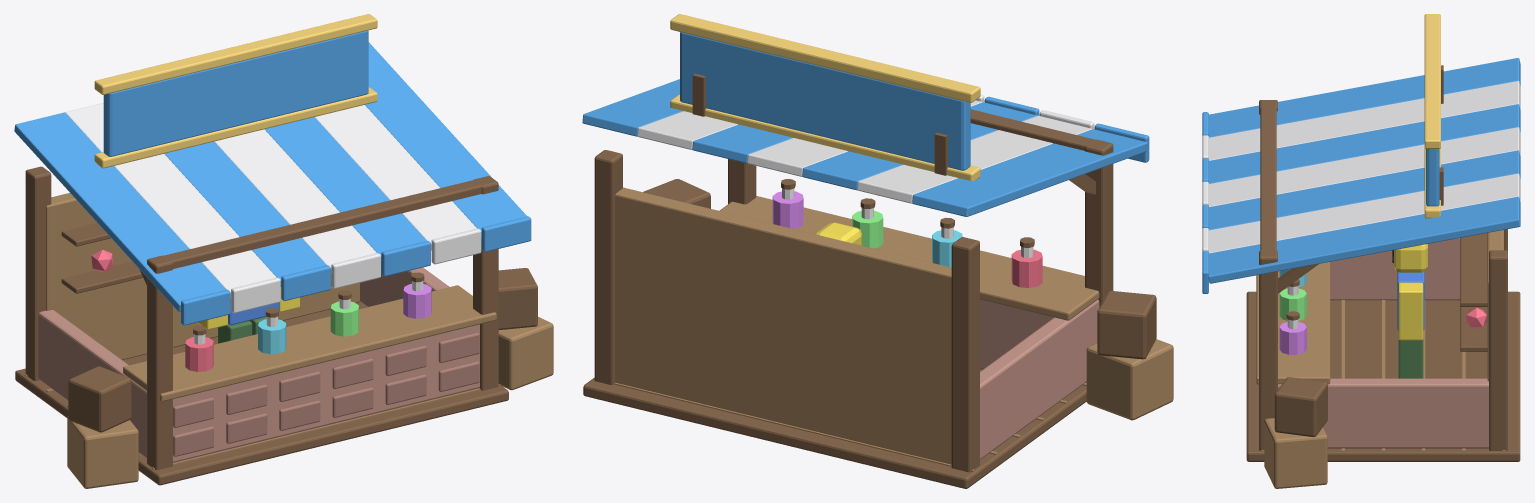
File: puesto_tienda.fbx
3 renders of one model, left to right at view 1: azimuth 30°, elevation 25°; view 2: azimuth 150°, elevation 25°; view 3: azimuth 270°, elevation 25°, orthographic. The views are drawn at different scales.
Visible parts, largest first — view 1: Puesto, Cartel, Vendedor; view 2: Puesto, Cartel, Vendedor; view 3: Puesto, Vendedor, Cartel.
Boxes of the visible parts, left/top/right/bottom form: Puesto: left=14, top=14, right=553, bottom=488; Cartel: left=103, top=30, right=368, bottom=156; Vendedor: left=197, top=287, right=299, bottom=343; Puesto: left=582, top=14, right=1173, bottom=488; Cartel: left=680, top=32, right=970, bottom=170; Vendedor: left=816, top=222, right=861, bottom=245; Puesto: left=1202, top=14, right=1520, bottom=488; Vendedor: left=1392, top=244, right=1427, bottom=378; Cartel: left=1426, top=149, right=1439, bottom=206.
Size of the model in its own units: 936 by 614 by 581.
Materials: 1 (1 with a texture image).
